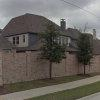Chimney: (55, 12, 78, 36)
